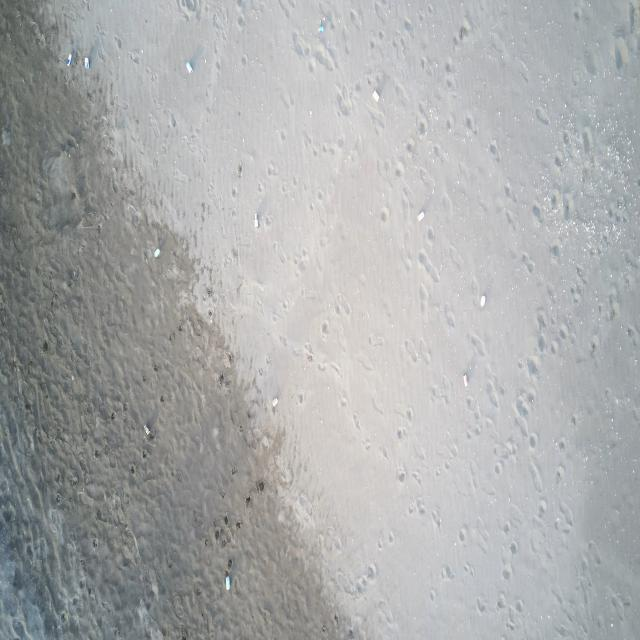Garbage: (184, 45, 204, 72), (0, 128, 11, 144), (224, 571, 231, 590), (143, 423, 151, 436), (64, 52, 72, 64), (184, 60, 192, 72), (318, 16, 324, 32), (372, 88, 379, 101), (253, 212, 259, 227), (416, 209, 424, 220), (83, 55, 89, 68), (152, 247, 160, 256), (272, 396, 278, 407), (480, 293, 484, 307), (318, 22, 323, 32), (464, 372, 467, 387)
